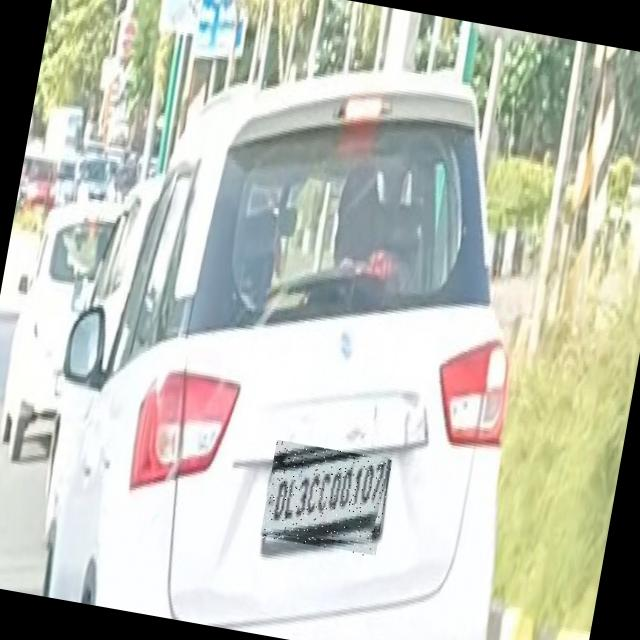Plate: (260, 441, 393, 560)
